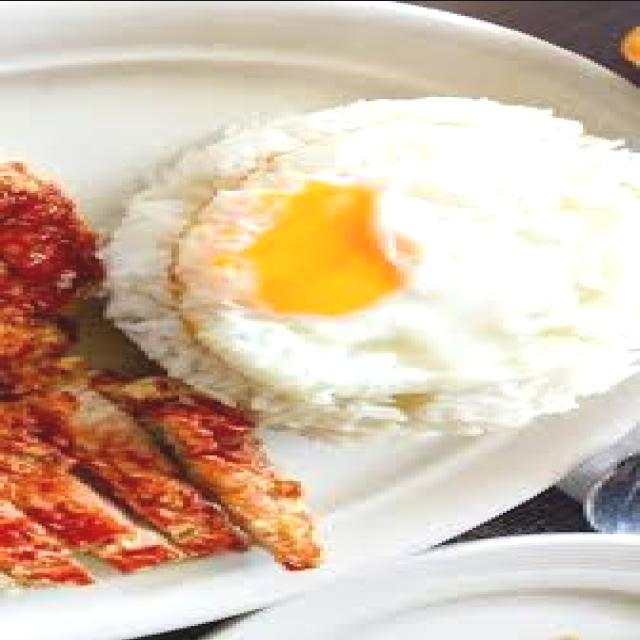telur ceplok: (183, 130, 632, 390)
